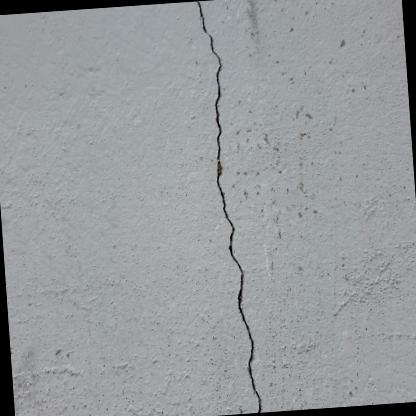crack: (195, 0, 260, 413)
